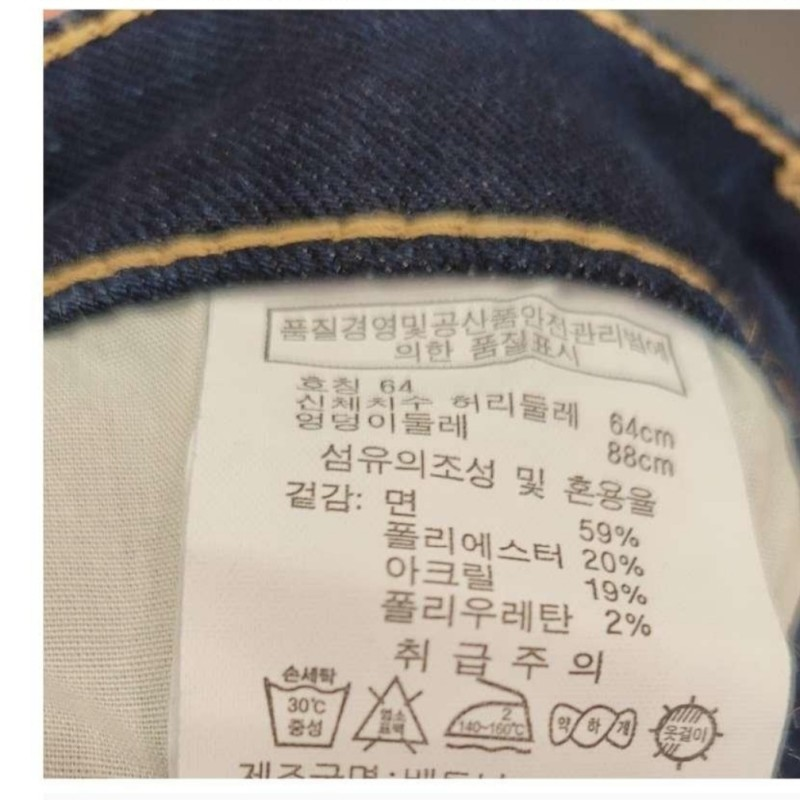KR_gentle_wring: (542, 690, 643, 763)
KR_hand_wash_30_neutral: (257, 655, 351, 755)
KR_hang_dry_in_shade: (650, 696, 722, 768)
KR_iron_medium_temp_with_cloth: (445, 674, 538, 759)
KR_no_chlorine_bleach: (352, 669, 431, 757)
